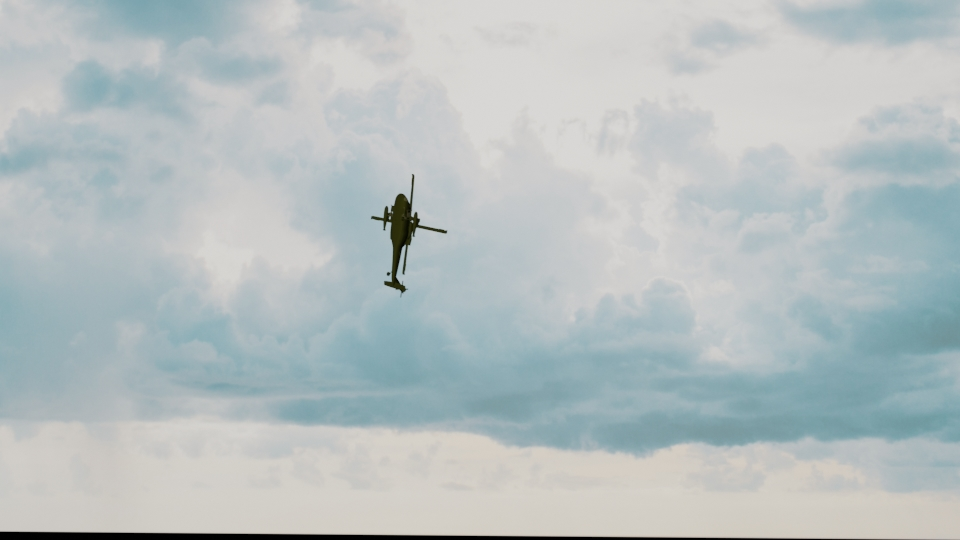heli: (372, 171, 446, 290)
